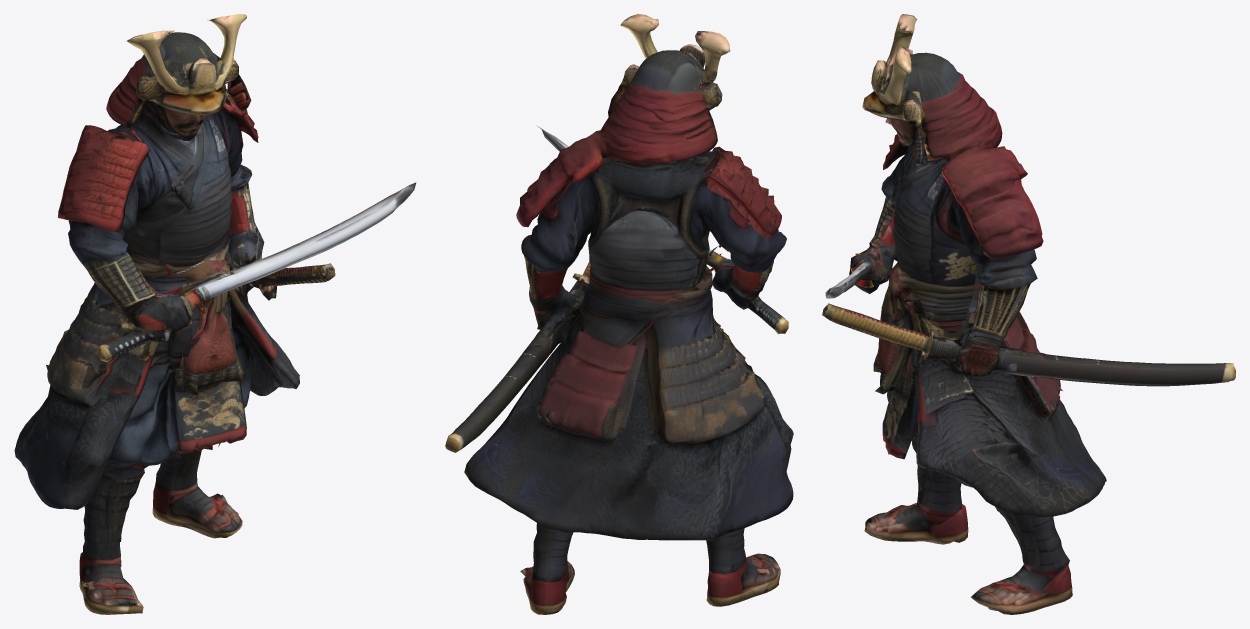
Rendered from samurai.glb.
The picture shows the model from 3 angles, left to right: view 1: azimuth 30°, elevation 25°; view 2: azimuth 150°, elevation 25°; view 3: azimuth 270°, elevation 25°; orthographic projection. The views are drawn at different scales.
Bounding box in the file's own units: 1.16 × 1.99 × 1.4.
1 material, 1 textured.
